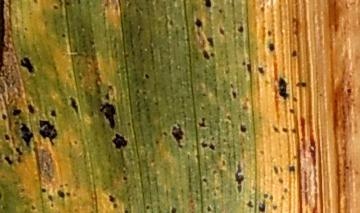tarspot: (99, 103, 118, 128), (38, 119, 57, 143), (1, 1, 7, 68), (170, 122, 183, 149), (20, 121, 33, 147), (234, 162, 244, 194), (19, 55, 35, 74), (111, 131, 128, 148), (277, 77, 289, 101), (69, 97, 80, 113), (26, 103, 36, 115), (255, 201, 265, 213), (197, 115, 206, 128), (244, 60, 253, 73), (3, 155, 13, 165), (206, 38, 215, 49), (202, 50, 211, 61), (287, 163, 296, 174), (49, 108, 58, 118), (256, 67, 266, 76), (194, 18, 202, 29), (239, 124, 247, 134), (13, 147, 22, 155), (104, 93, 112, 102), (57, 190, 65, 199), (111, 201, 119, 210), (236, 26, 245, 34), (290, 48, 297, 58), (272, 165, 279, 175), (47, 194, 55, 202), (108, 194, 116, 202), (204, 1, 212, 9), (218, 27, 226, 35), (267, 43, 275, 51), (14, 109, 23, 116), (143, 72, 150, 81), (266, 28, 273, 37), (209, 143, 216, 151), (288, 107, 295, 115), (106, 84, 114, 91), (40, 186, 47, 193), (282, 126, 289, 133), (273, 127, 280, 134), (1, 113, 7, 121), (202, 141, 208, 149), (270, 205, 278, 211), (247, 200, 252, 209), (52, 4, 59, 10), (60, 33, 67, 39), (209, 51, 215, 58), (171, 206, 177, 213), (301, 81, 307, 88), (262, 192, 268, 199), (278, 178, 284, 185), (282, 187, 288, 194), (162, 130, 168, 137), (217, 7, 223, 14), (346, 88, 352, 95), (5, 133, 10, 141), (292, 126, 297, 134), (207, 205, 212, 213), (16, 156, 22, 162), (30, 204, 36, 210), (49, 202, 55, 208), (122, 175, 128, 181), (66, 190, 71, 197), (123, 208, 130, 213), (146, 204, 151, 211), (232, 91, 237, 98), (65, 1, 72, 6), (203, 178, 208, 184), (32, 1, 38, 5)
